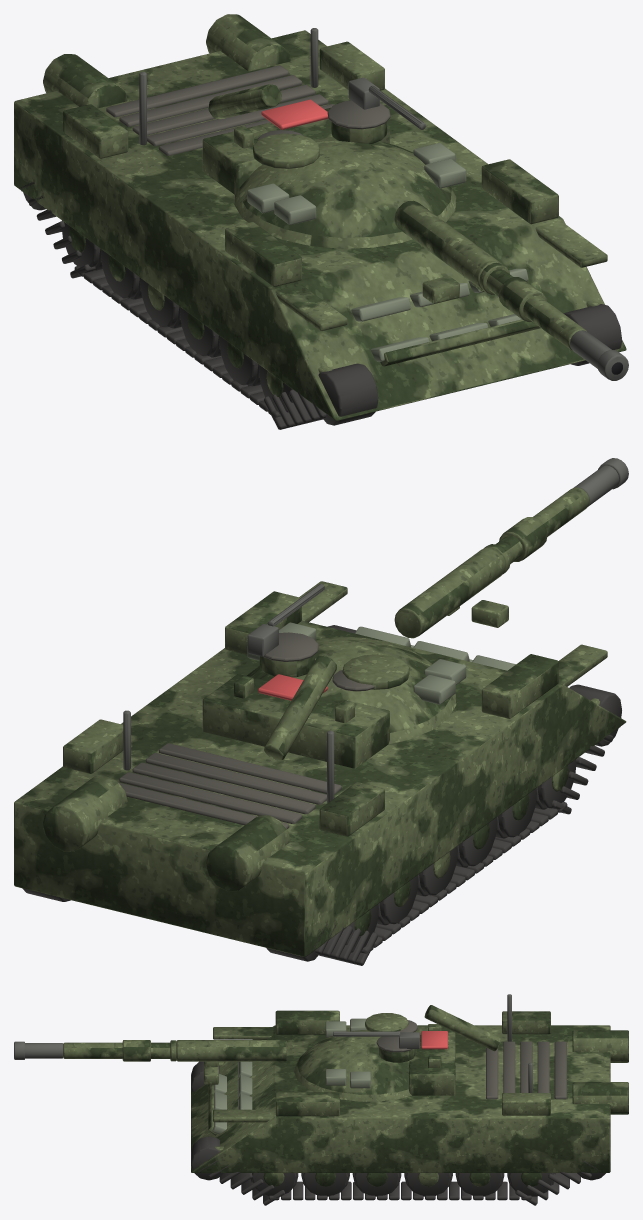
File: mbt_e4_ru_t72_LOD0.glb
3 renders of one model, top to bottom at view 1: azimuth 30°, elevation 25°; view 2: azimuth 150°, elevation 25°; view 3: azimuth 270°, elevation 25°, orthographic. The views are drawn at different scales.
Parts seen in each view (by area): view 1: mbt_e4_ru_t72_LOD0_body, mbt_e4_ru_t72_LOD0_track, mbt_e4_ru_t72_LOD0_deck, mbt_e4_ru_t72_LOD0_era, mbt_e4_ru_t72_LOD0_gun, mbt_e4_ru_t72_LOD0_team; view 2: mbt_e4_ru_t72_LOD0_body, mbt_e4_ru_t72_LOD0_deck, mbt_e4_ru_t72_LOD0_track, mbt_e4_ru_t72_LOD0_gun, mbt_e4_ru_t72_LOD0_era, mbt_e4_ru_t72_LOD0_team; view 3: mbt_e4_ru_t72_LOD0_body, mbt_e4_ru_t72_LOD0_track, mbt_e4_ru_t72_LOD0_deck, mbt_e4_ru_t72_LOD0_era, mbt_e4_ru_t72_LOD0_gun, mbt_e4_ru_t72_LOD0_team.
Part boxes in pixels (bbox=[...]): mbt_e4_ru_t72_LOD0_body: bbox=[14, 14, 626, 420]; mbt_e4_ru_t72_LOD0_track: bbox=[20, 181, 621, 429]; mbt_e4_ru_t72_LOD0_deck: bbox=[106, 65, 390, 155]; mbt_e4_ru_t72_LOD0_era: bbox=[247, 143, 528, 361]; mbt_e4_ru_t72_LOD0_gun: bbox=[139, 28, 628, 380]; mbt_e4_ru_t72_LOD0_team: bbox=[261, 99, 328, 129]; mbt_e4_ru_t72_LOD0_body: bbox=[14, 487, 626, 956]; mbt_e4_ru_t72_LOD0_deck: bbox=[118, 632, 374, 828]; mbt_e4_ru_t72_LOD0_track: bbox=[22, 625, 621, 965]; mbt_e4_ru_t72_LOD0_gun: bbox=[123, 458, 628, 803]; mbt_e4_ru_t72_LOD0_era: bbox=[247, 622, 515, 704]; mbt_e4_ru_t72_LOD0_team: bbox=[258, 674, 327, 700]; mbt_e4_ru_t72_LOD0_body: bbox=[63, 1005, 628, 1186]; mbt_e4_ru_t72_LOD0_track: bbox=[191, 1061, 605, 1205]; mbt_e4_ru_t72_LOD0_deck: bbox=[376, 1020, 566, 1099]; mbt_e4_ru_t72_LOD0_era: bbox=[212, 1018, 370, 1134]; mbt_e4_ru_t72_LOD0_gun: bbox=[14, 994, 532, 1092]; mbt_e4_ru_t72_LOD0_team: bbox=[421, 1031, 447, 1049].
Bounding box in the file's own units: 3.59 × 2.62 × 10.03.
Materials: 7 (1 with a texture image).
